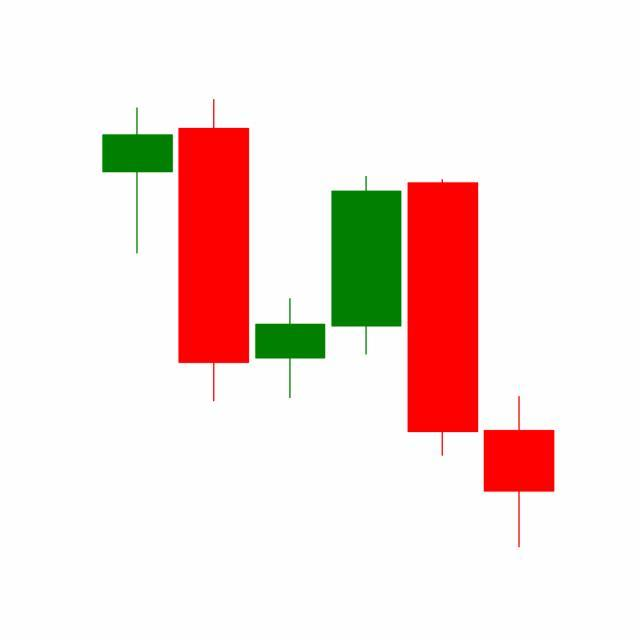Three Outside Up-Down: (326, 172, 555, 549)
